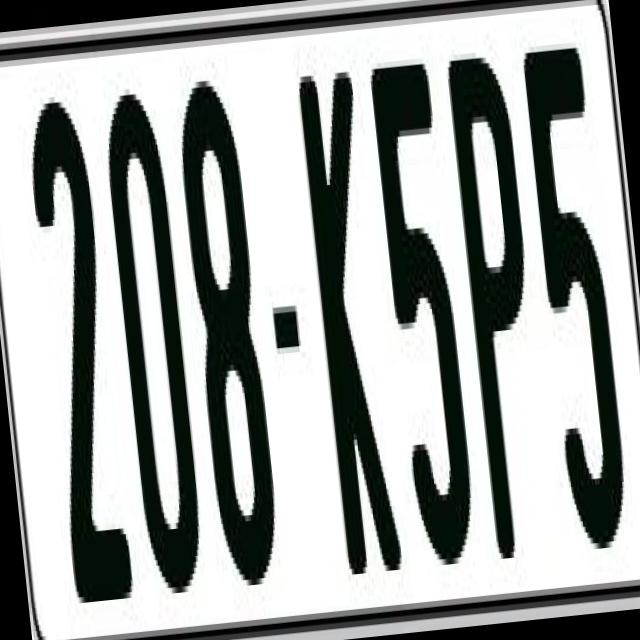0: (98, 85, 215, 601)
2: (20, 82, 134, 598)
5: (517, 29, 632, 557), (367, 46, 484, 556)
8: (168, 66, 286, 582)
K: (293, 64, 409, 574)
P: (442, 56, 553, 570)
